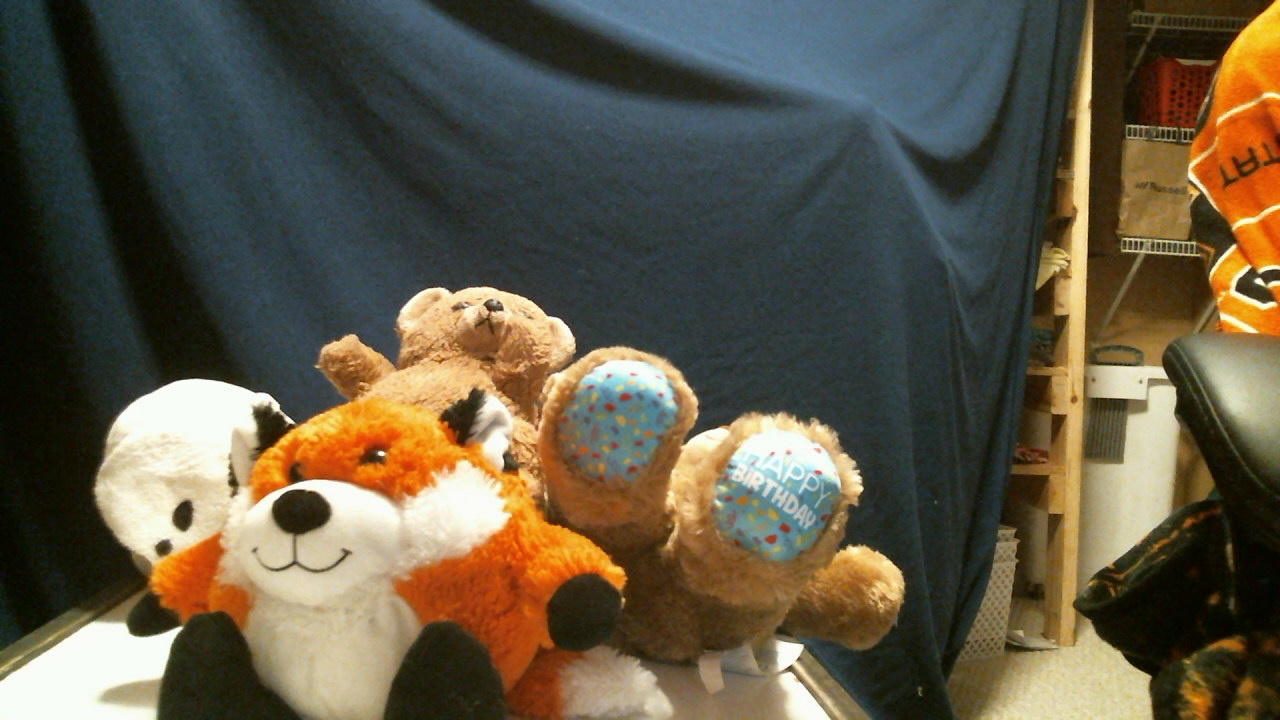Little_Mister_Bear: (434, 301, 543, 376)
